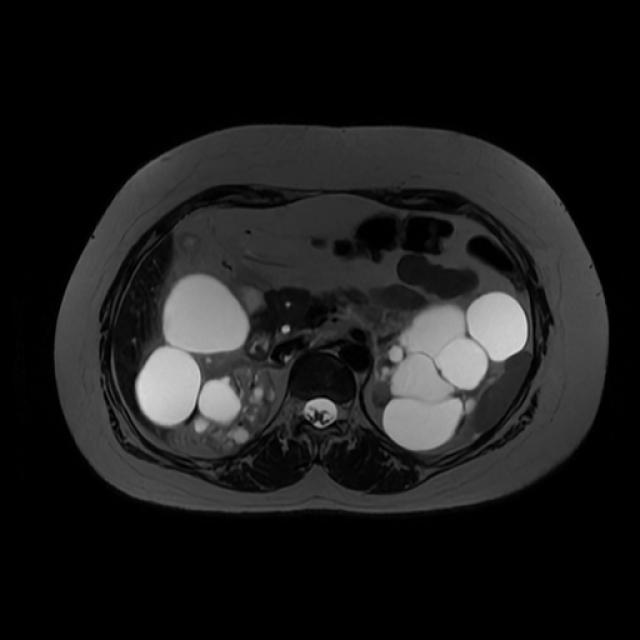sag: (133, 274, 275, 455)
sol: (374, 293, 527, 449)
